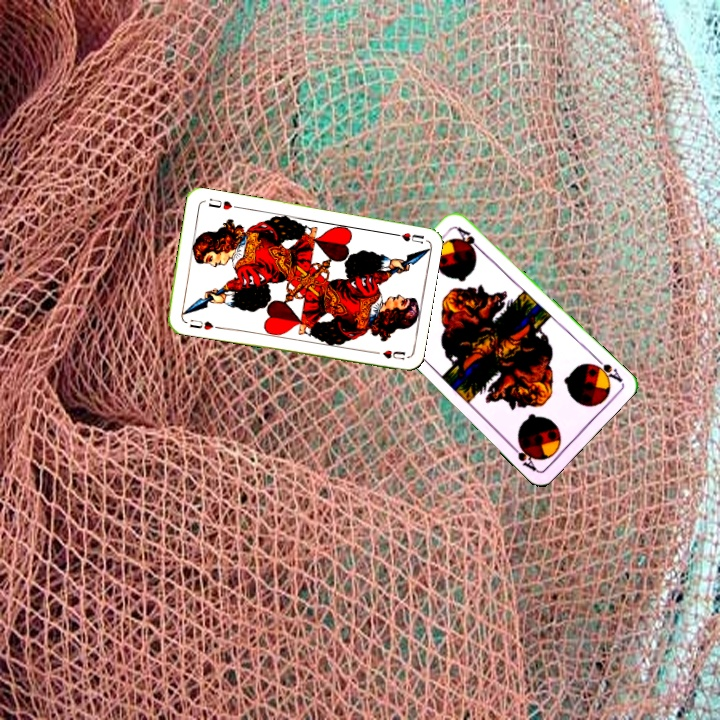HU: (387, 229, 426, 246), (185, 315, 216, 333)
SA: (587, 353, 625, 385)
